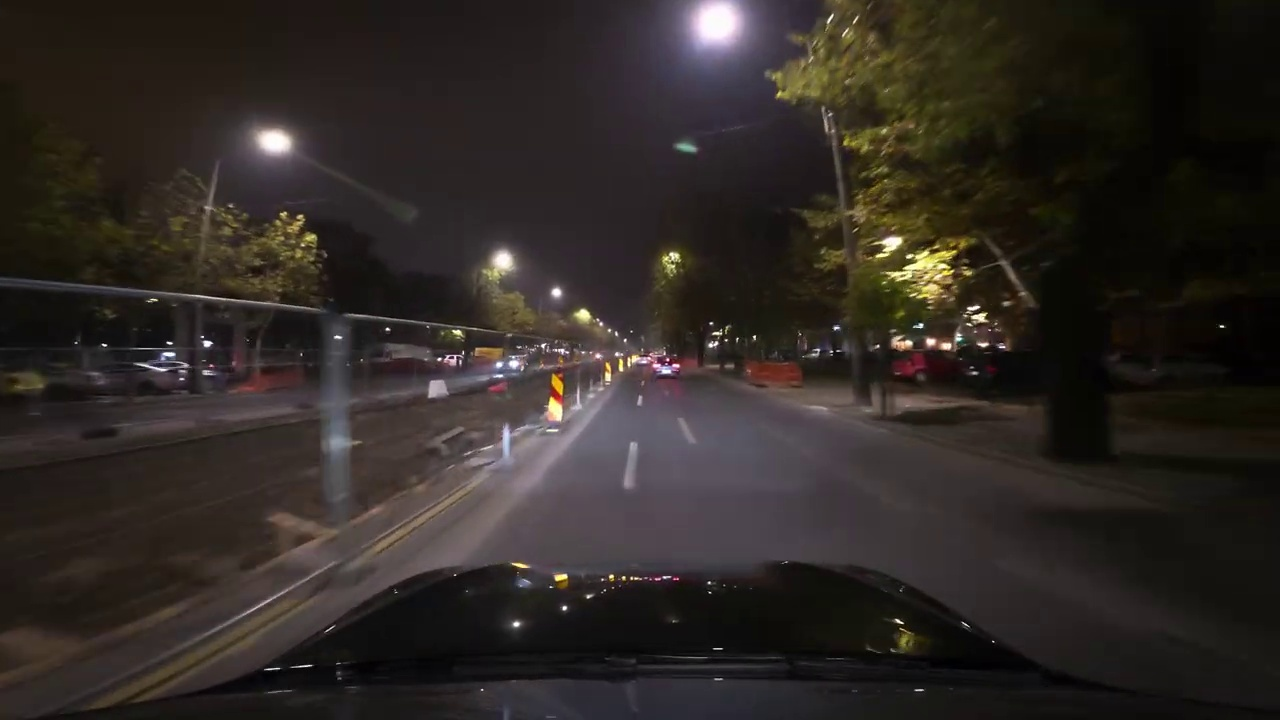acesa: (697, 5, 737, 42), (256, 127, 292, 156), (485, 250, 516, 279), (658, 248, 685, 277), (674, 137, 699, 158)
